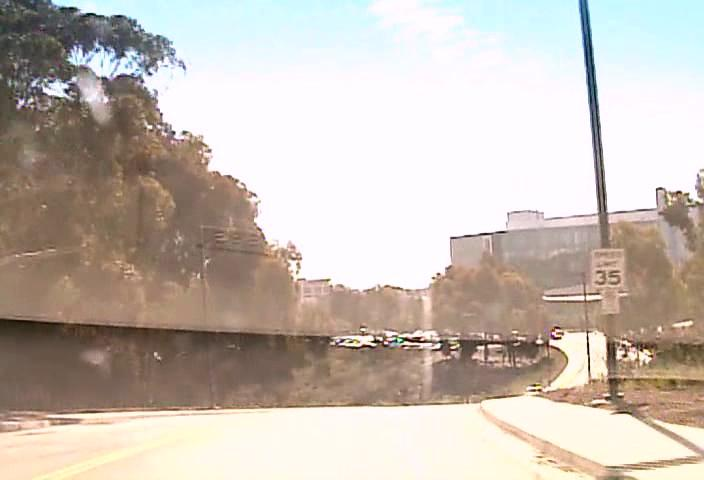speedLimit35: (590, 247, 626, 290)
